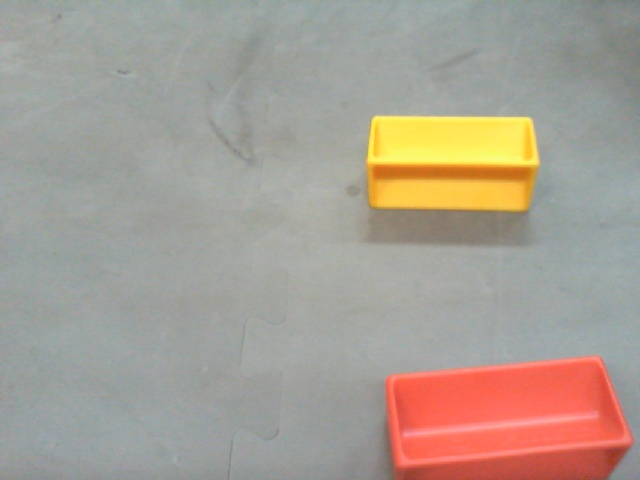RedSample: (384, 357, 631, 480)
YellowSample: (364, 110, 543, 217)
